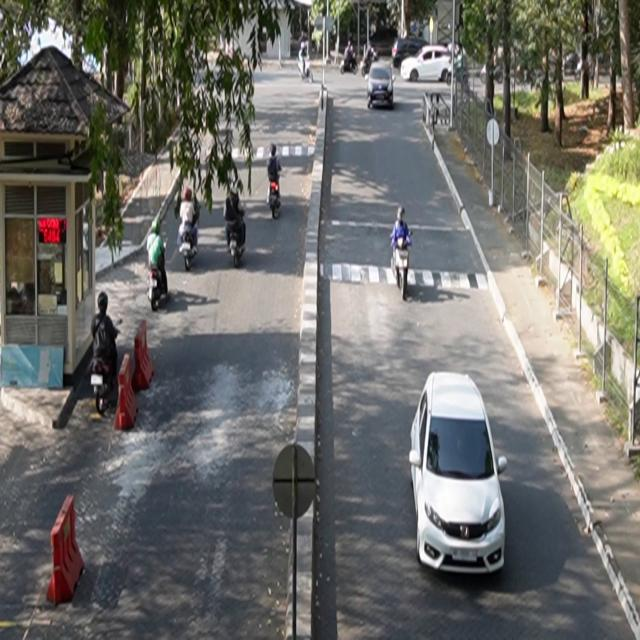car: (410, 371, 508, 576), (401, 45, 463, 84), (368, 61, 397, 110)
